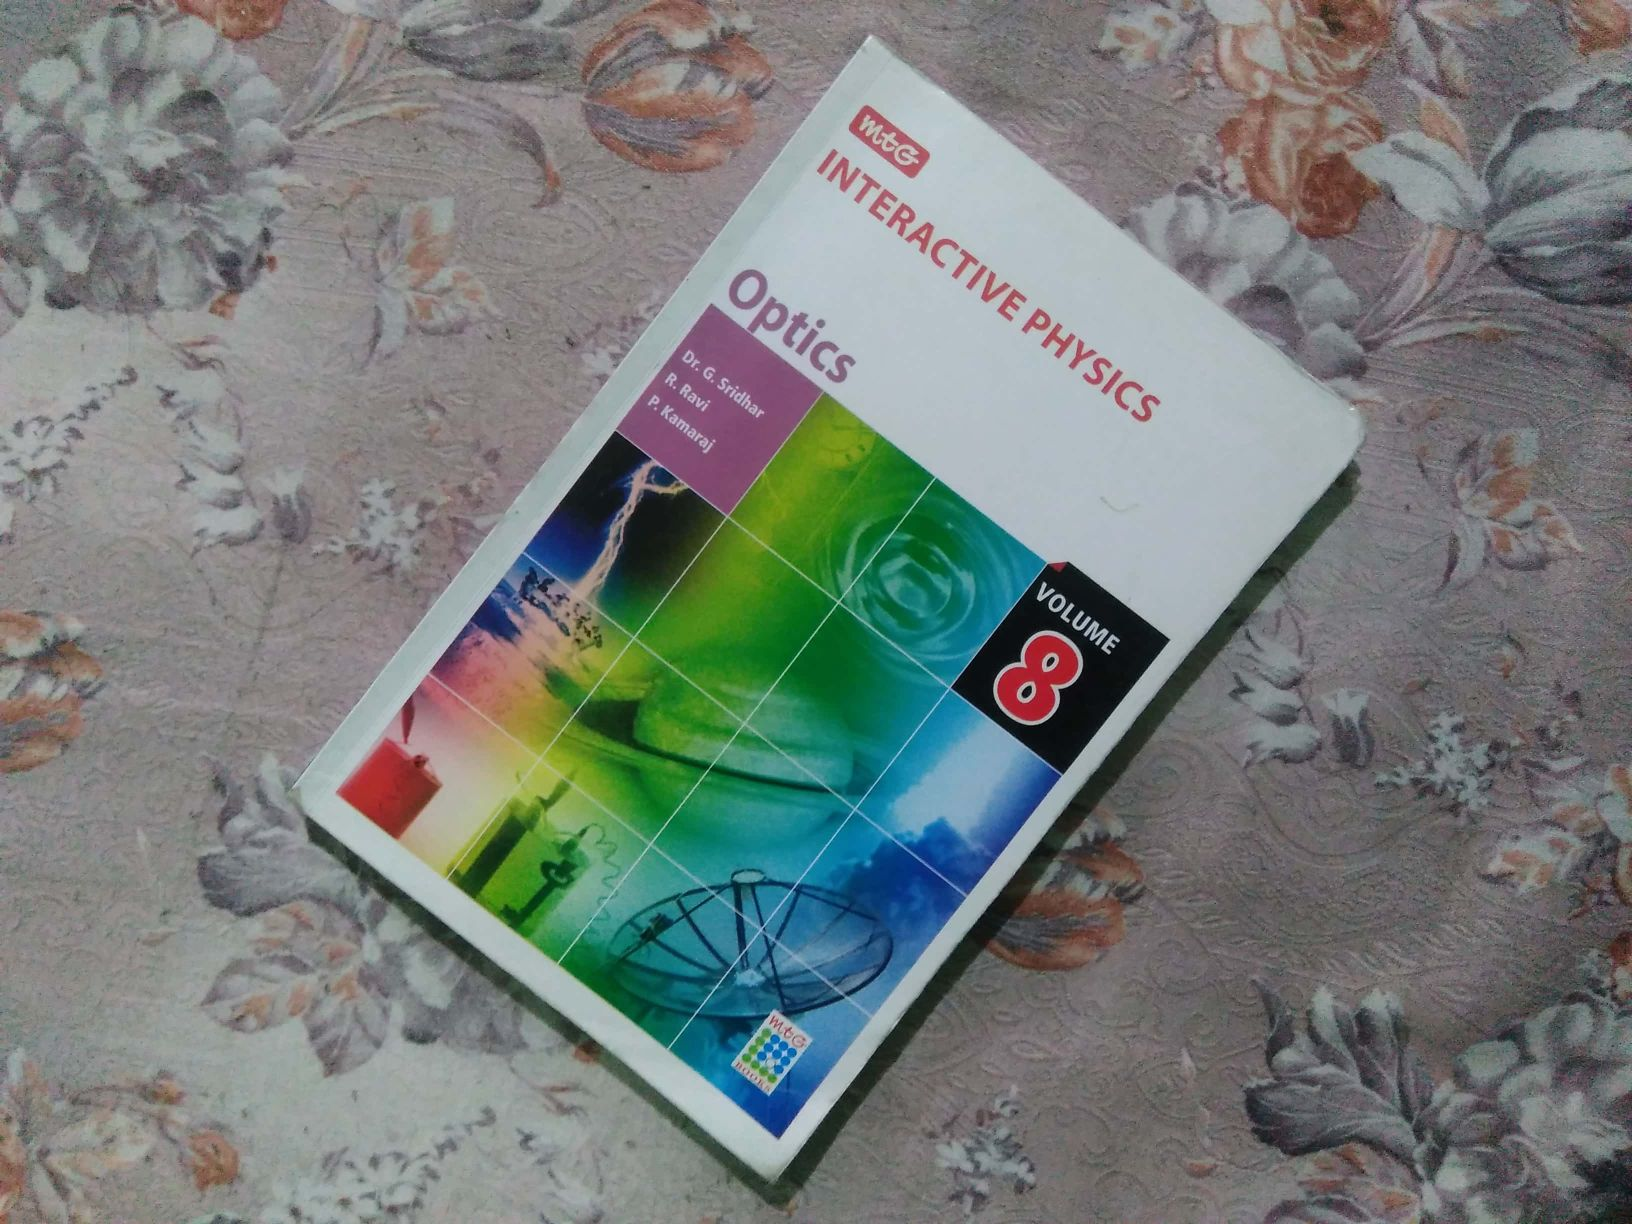optics: (356, 75, 1315, 1164)
